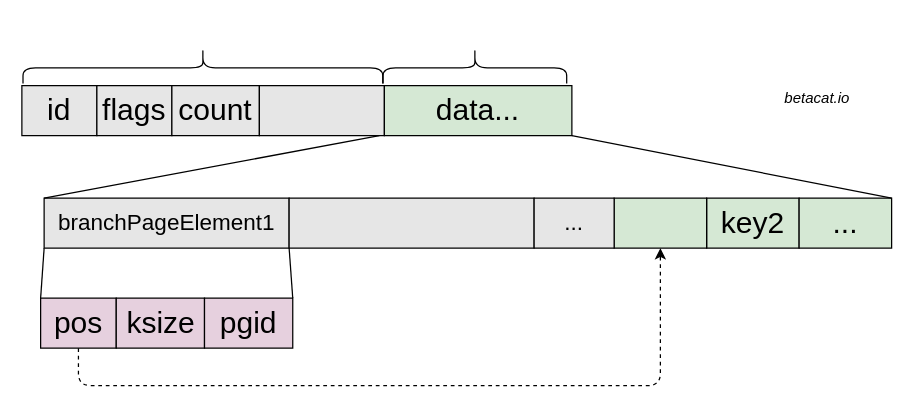
The diagram is 915 pixels wide and 418 high, and some of its shapes have lost their labels. Each missing label, with the centre of its shape:
"branchPageElement2" belongs at pixel 411 222.
"key1" belongs at pixel 660 222.
"overflow" belongs at pixel 321 110.
"Page Body" belongs at pixel 474 65.
"Page Header" belongs at pixel 202 65.
